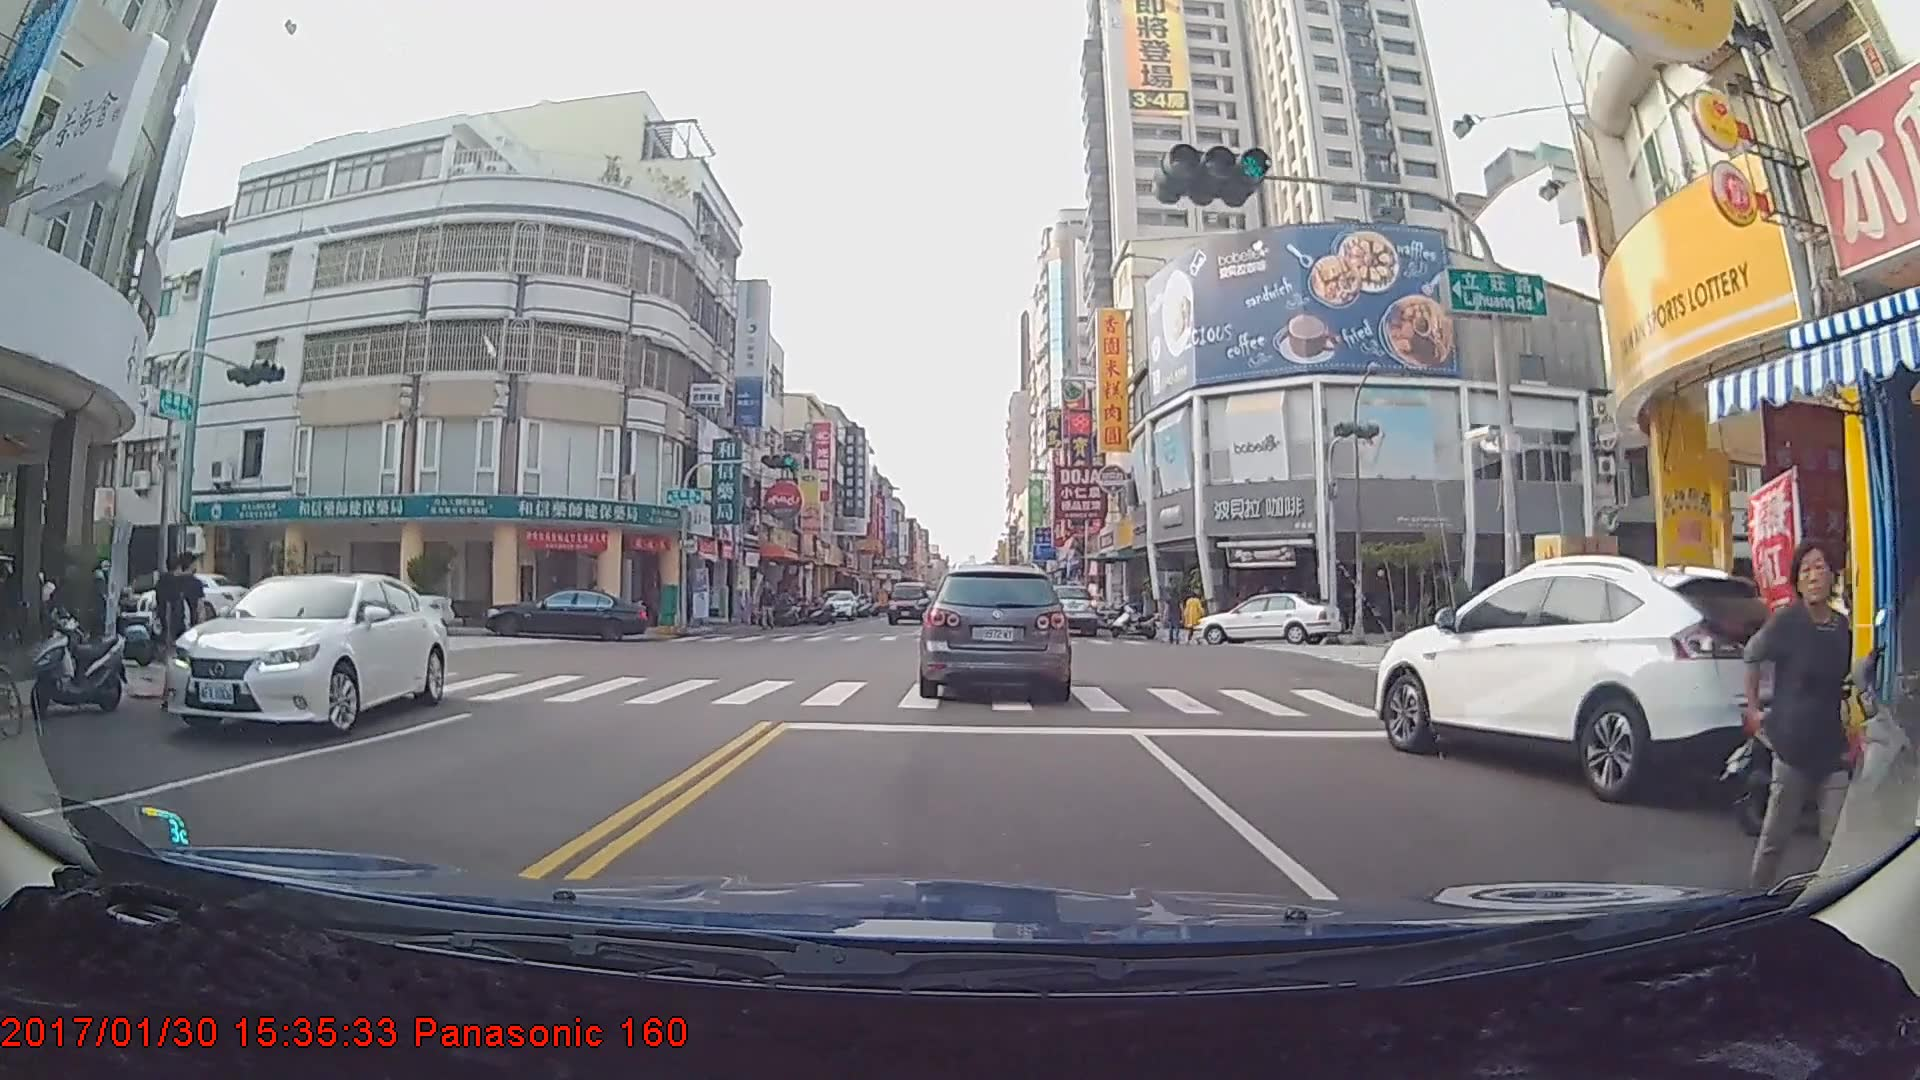pedestrian: (1741, 541, 1873, 923), (162, 551, 216, 710), (149, 557, 190, 696), (1184, 588, 1207, 646), (1166, 589, 1186, 648), (757, 581, 777, 634)
vehicle: (1375, 554, 1812, 809), (157, 571, 444, 738), (921, 562, 1070, 701), (481, 588, 647, 643), (1193, 589, 1339, 646), (1035, 582, 1097, 636), (886, 579, 929, 625), (815, 588, 858, 622)
